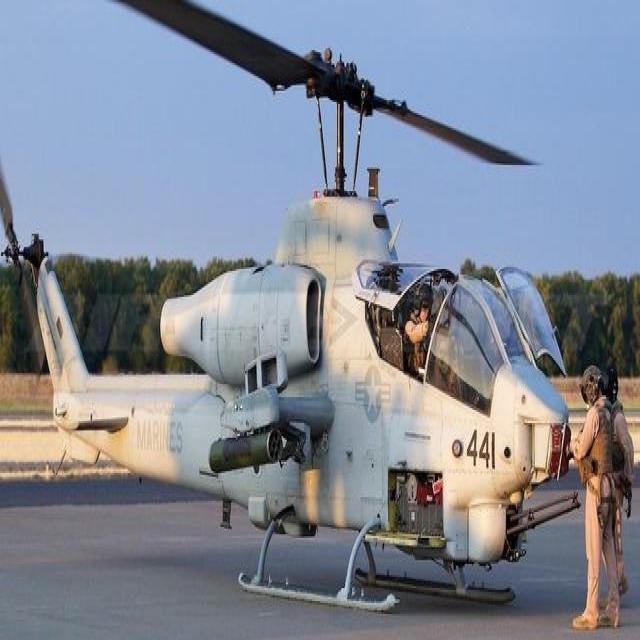MIL_HELO: (1, 15, 572, 611)
